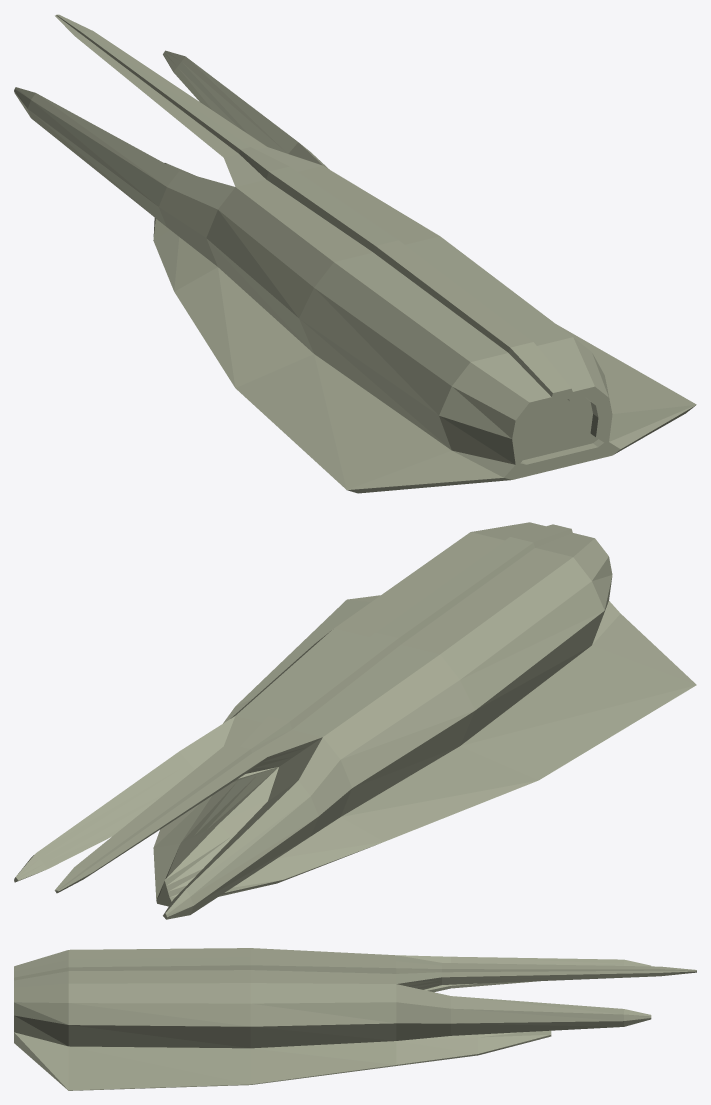
File: cruiser.glb
The picture shows the model from 3 angles, top to bottom: view 1: azimuth 30°, elevation 25°; view 2: azimuth 150°, elevation 25°; view 3: azimuth 270°, elevation 25°; orthographic projection. The views are drawn at different scales.
Parts seen in each view (by area): view 1: hull; view 2: hull; view 3: hull.
Boxes of the visible parts, left/top/right/bottom form: hull: left=14, top=14, right=696, bottom=493; hull: left=14, top=522, right=696, bottom=919; hull: left=14, top=948, right=696, bottom=1090.
Size of the model in its own units: 60 by 18.8 by 150.
